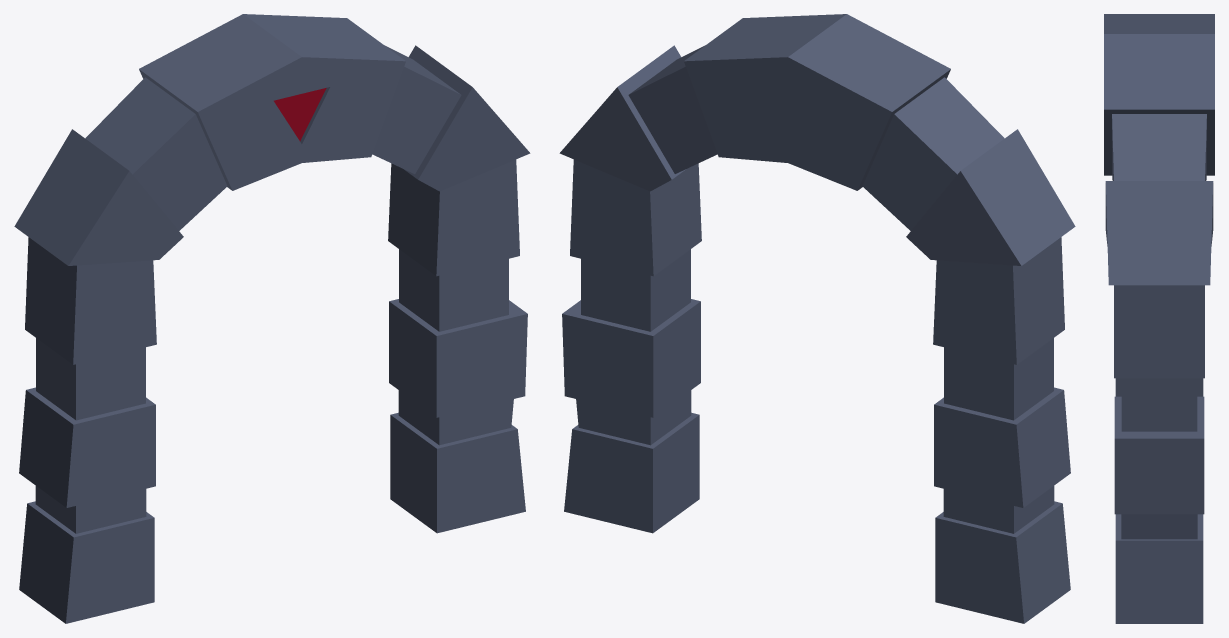
The model's file is rgs-arcada.glb.
3 views of the same model, side by side, from view 1: azimuth 30°, elevation 25°; view 2: azimuth 150°, elevation 25°; view 3: azimuth 270°, elevation 25° (orthographic). The views are drawn at different scales.
Visible parts, largest first — view 1: door arc; view 2: door arc; view 3: door arc.
Boxes of the visible parts, left/top/right/bottom form: door arc: left=14, top=14, right=530, bottom=623; door arc: left=559, top=14, right=1075, bottom=623; door arc: left=1104, top=14, right=1214, bottom=623.
Size of the model in its own units: 0.0331 by 0.0352 by 0.00731.
